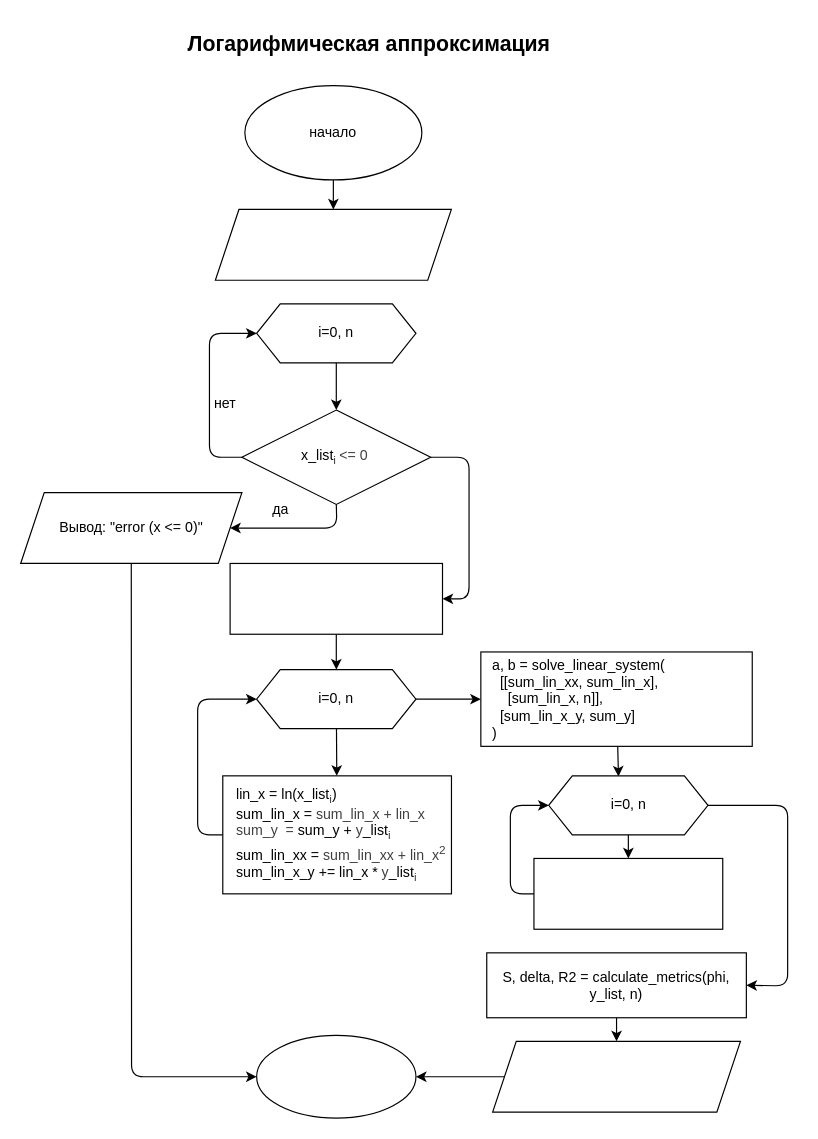
The diagram is 818 pixels wide and 1139 high, and some of its shapes have lost their labels. The box of each missing label's shape, as (x1, y1, x2, y2) in pixels:
n, x_list, y_list: (214, 208, 451, 280)
phi_i = a * ln(x_i) + b: (533, 857, 723, 929)
sum_lin_x = 0 sum_y = 0 sum_lin_xx = 0 sum_lin_x_y = 0: (229, 562, 442, 634)
Вывод: [a, b], phi, S, delta, R2: (491, 1040, 740, 1112)
конец: (255, 1034, 416, 1118)
